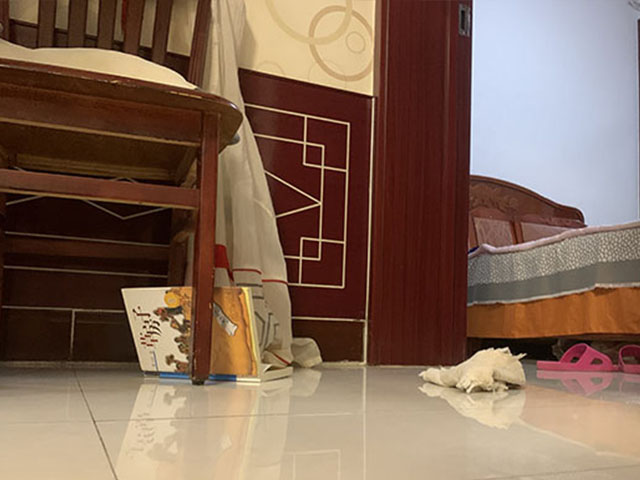bed: (466, 173, 640, 345)
book: (119, 283, 295, 385)
curtain: (198, 1, 325, 381)
slippers: (535, 342, 622, 372)
stool: (1, 1, 245, 388)
